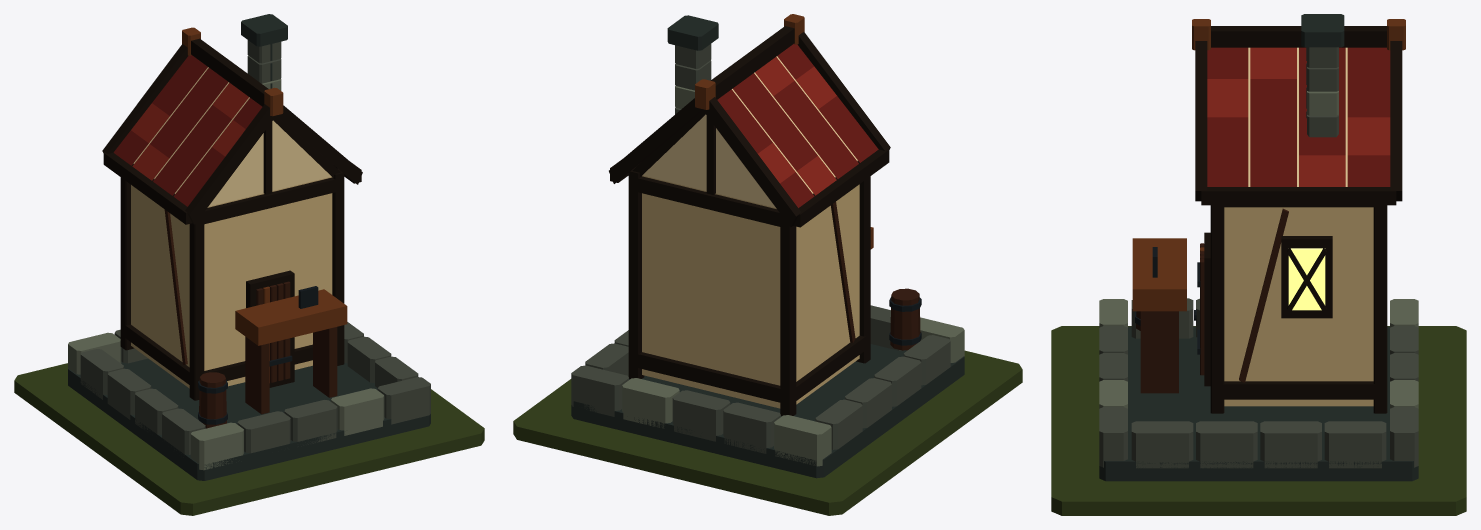
File: butchery_t3.glb
The picture shows the model from 3 angles, left to right: view 1: azimuth 30°, elevation 25°; view 2: azimuth 150°, elevation 25°; view 3: azimuth 270°, elevation 25°; orthographic projection. The views are drawn at different scales.
Visible parts, largest first — view 1: MMR | butchery | T03 Architecture.001, MMR | butchery | Tier 03 Ground.001; view 2: MMR | butchery | T03 Architecture.001, MMR | butchery | Tier 03 Ground.001; view 3: MMR | butchery | T03 Architecture.001, MMR | butchery | Tier 03 Ground.001.
Boxes of the visible parts, x1,y1,x2,y2 form: MMR | butchery | T03 Architecture.001: [68, 14, 430, 480]; MMR | butchery | Tier 03 Ground.001: [14, 363, 484, 515]; MMR | butchery | T03 Architecture.001: [571, 14, 964, 478]; MMR | butchery | Tier 03 Ground.001: [513, 350, 1022, 515]; MMR | butchery | T03 Architecture.001: [1099, 14, 1418, 481]; MMR | butchery | Tier 03 Ground.001: [1051, 326, 1466, 515].
Bounding box in the file's own units: 1.3 × 1.48 × 1.3.
2 materials, 1 textured.
